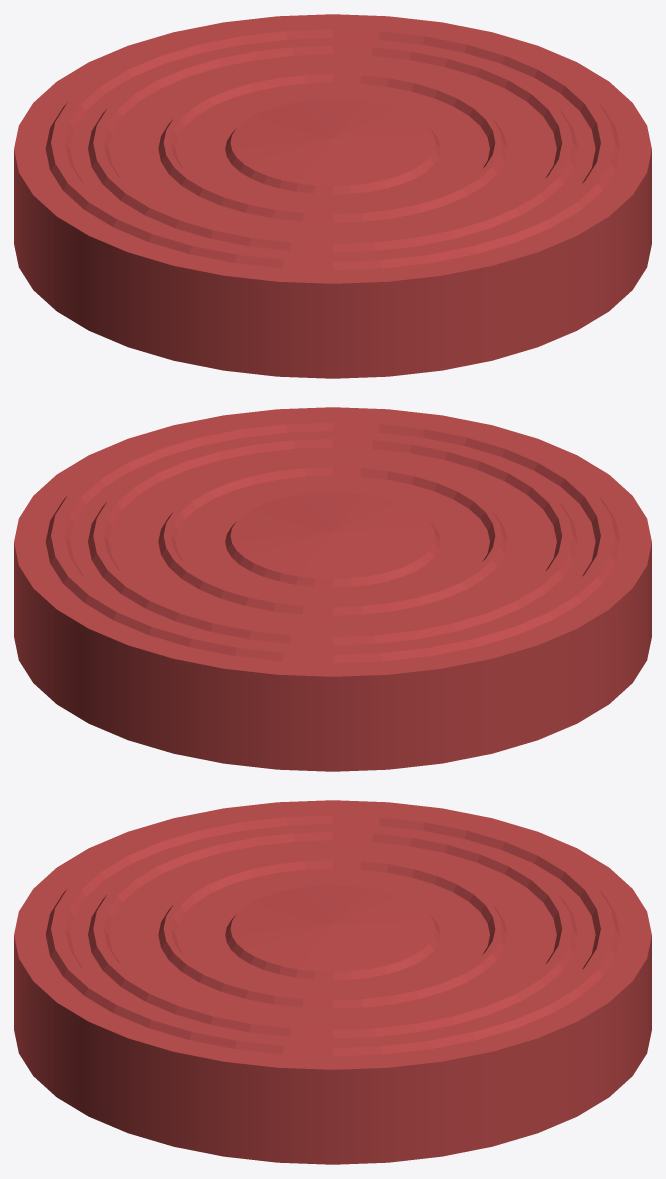
File: red.fbx
3 views of the same model, one above another, from view 1: azimuth 30°, elevation 25°; view 2: azimuth 150°, elevation 25°; view 3: azimuth 270°, elevation 25° (orthographic).
Visible parts, largest first — view 1: red; view 2: red; view 3: red.
Part boxes in pixels (bbox=[...]): red: bbox=[14, 14, 651, 378]; red: bbox=[14, 407, 651, 771]; red: bbox=[14, 800, 651, 1164].
Bounding box in the file's own units: 2.73 × 0.4969 × 2.73.
